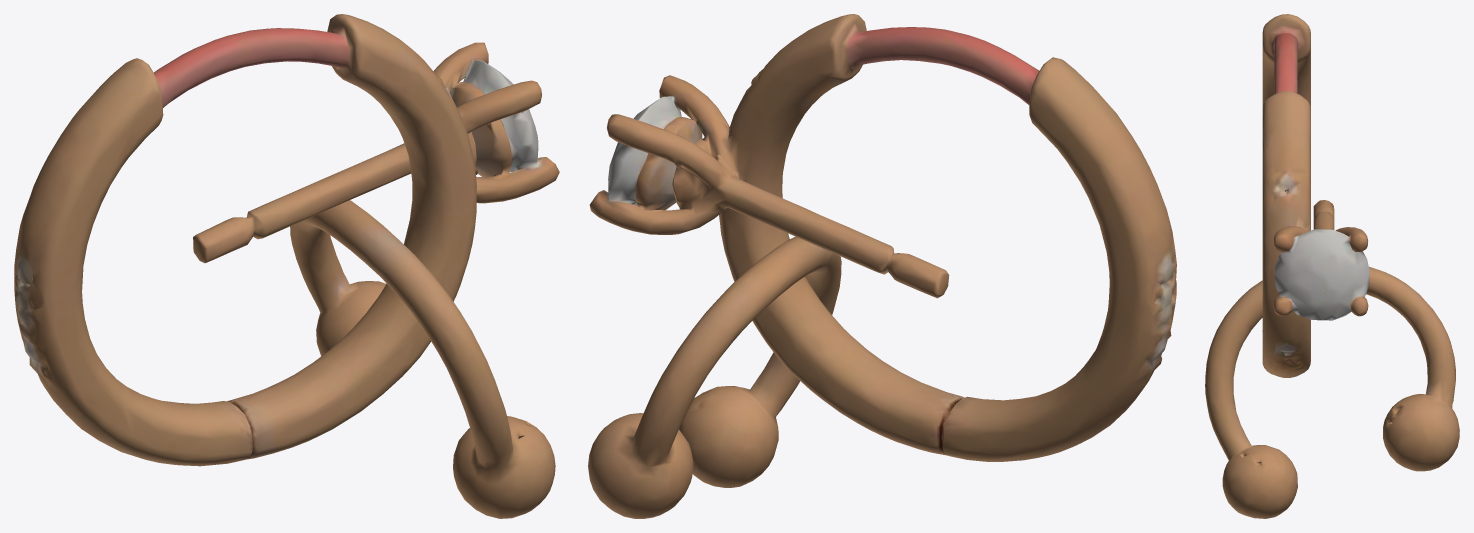
Rendered from piercing.glb.
3 views of the same model, side by side, from view 1: azimuth 30°, elevation 25°; view 2: azimuth 150°, elevation 25°; view 3: azimuth 270°, elevation 25° (orthographic). The views are drawn at different scales.
Visible parts, largest first — view 1: tripo_node_662732b2-b062-461a-b4a3-a10621a7bb34; view 2: tripo_node_662732b2-b062-461a-b4a3-a10621a7bb34; view 3: tripo_node_662732b2-b062-461a-b4a3-a10621a7bb34.
Boxes of the visible parts, x1,y1,x2,y2 form: tripo_node_662732b2-b062-461a-b4a3-a10621a7bb34: [14, 14, 559, 518]; tripo_node_662732b2-b062-461a-b4a3-a10621a7bb34: [588, 14, 1176, 518]; tripo_node_662732b2-b062-461a-b4a3-a10621a7bb34: [1205, 14, 1459, 518].
Size of the model in its own units: 1 by 0.9438 by 0.5715.
1 material, 1 textured.
